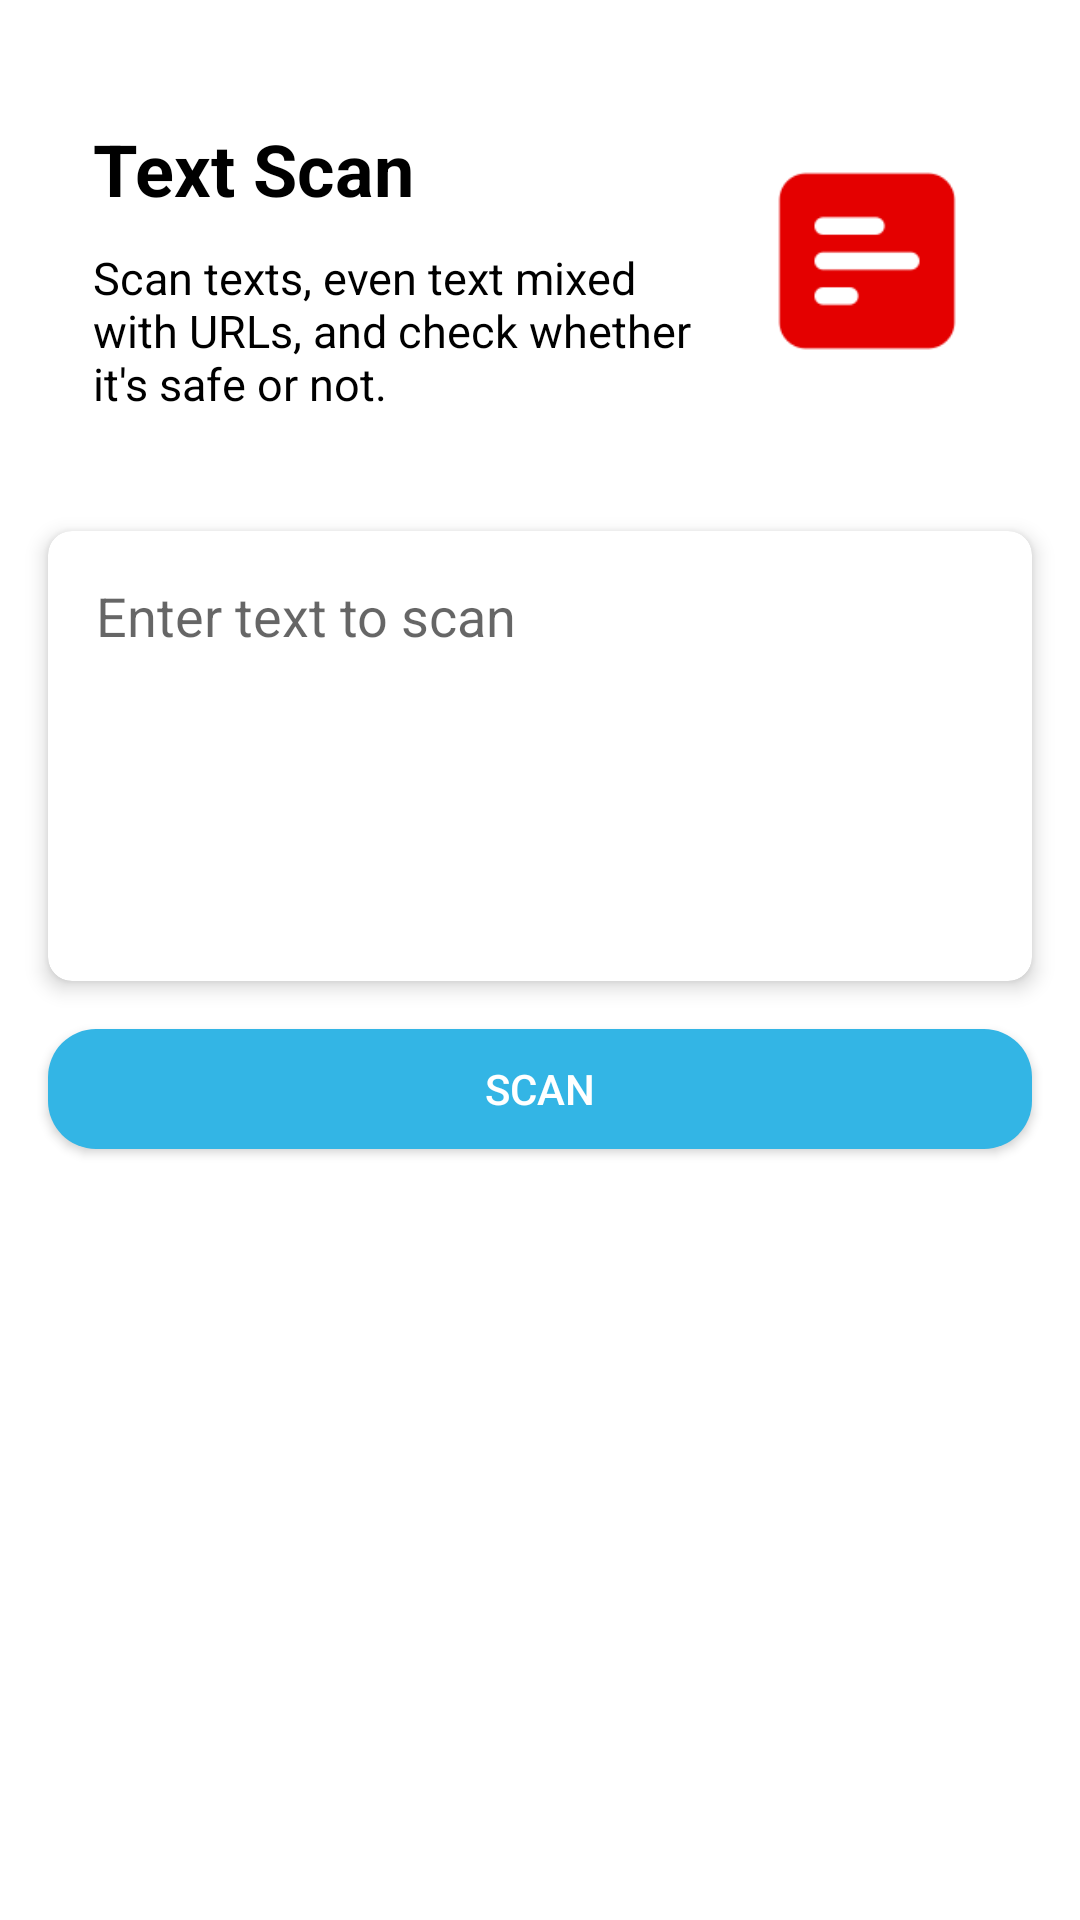

Named icons in this screenshot (1080px x 1920px) and their centers, point (x, y):
paragraph: point (867, 261)
